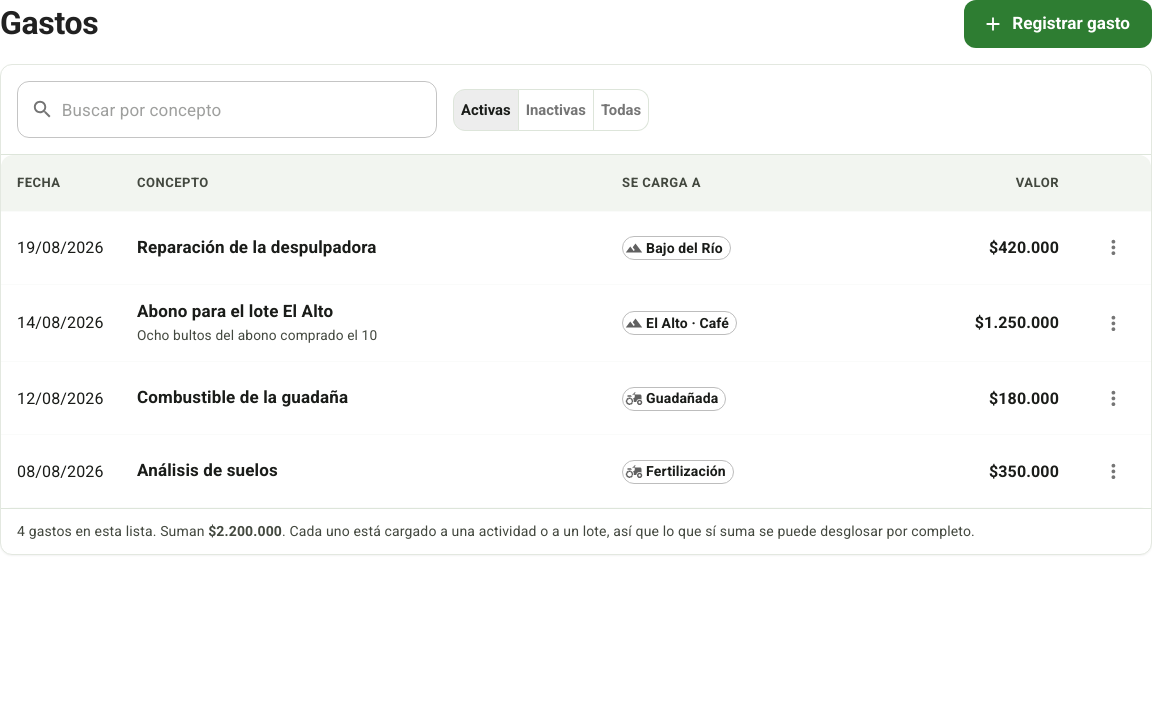
Test: an expense is charged to one thing, and the form cannot say otherwise › offers activity OR lot, never both at once
expect the text "Abono para el lote El Alto" is shown: met, box [137,301,333,321]
Click the button "Registrar gasto". click: (1058, 24)
box: [964,0,1151,48]
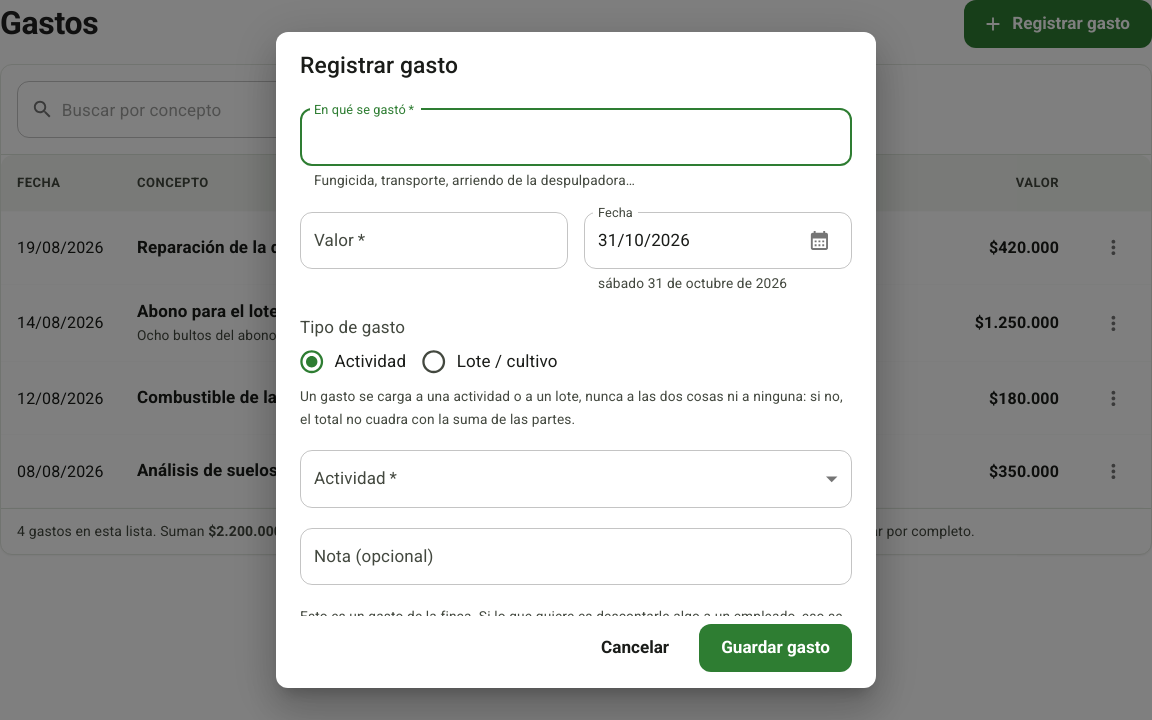
expect the radio button labelled "Actividad" is checked: met, box [289,339,406,385]
expect the dropdown named "Actividad" is shown: met, box [300,450,852,508]
Click the radio button labelled "Lote / cultivo". click: (484, 362)
box: [411,339,558,385]
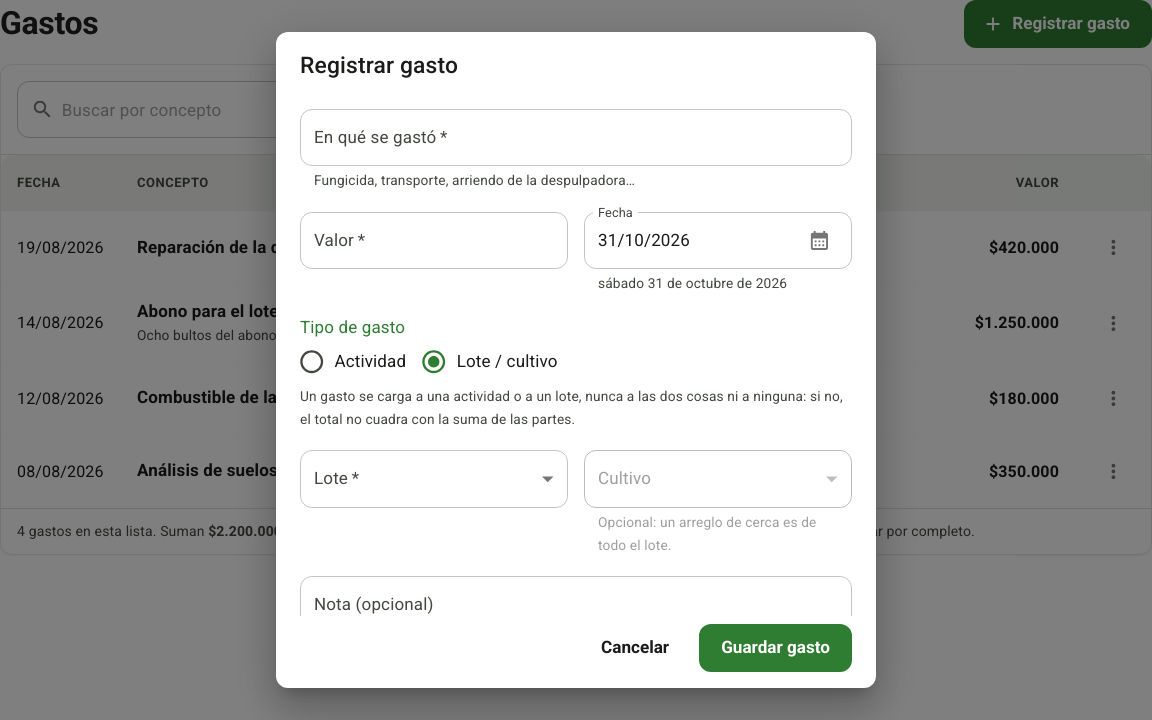
expect the 1st dropdown named "Lote" is shown: met, box [300,450,568,508]
